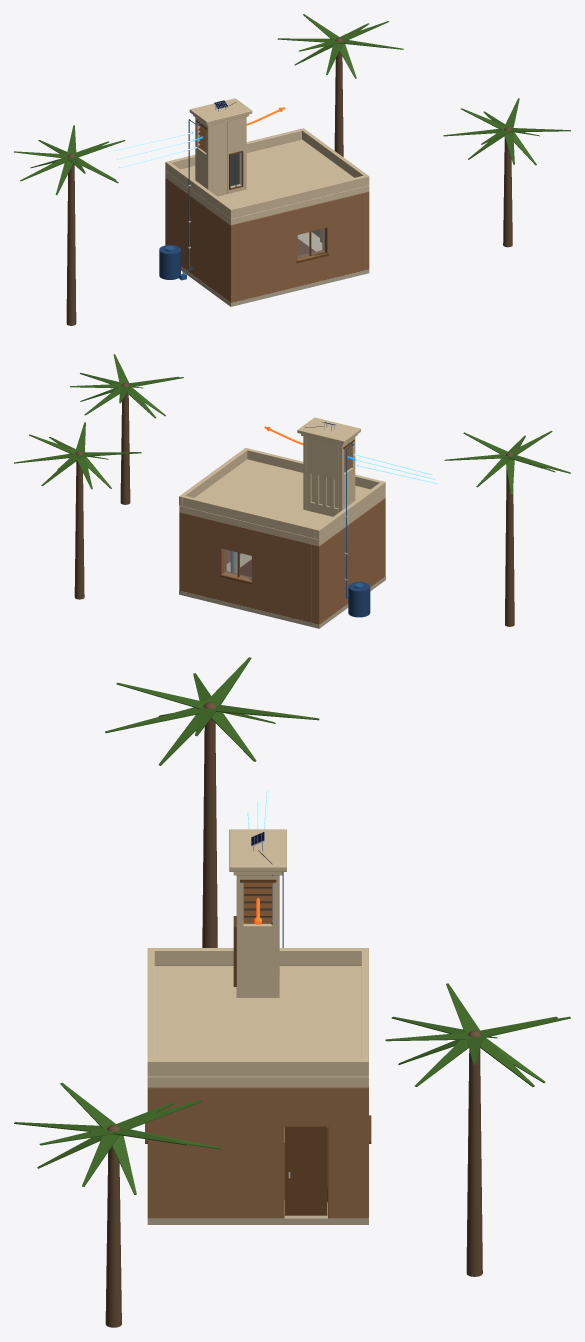
The model's file is EcoCatcher.glb.
3 renders of one model, top to bottom at view 1: azimuth 30°, elevation 25°; view 2: azimuth 150°, elevation 25°; view 3: azimuth 270°, elevation 25°, orthographic. The views are drawn at different scales.
Visible parts, largest first — view 1: Wall South (cutaway), Roof slab, Wall West, Parapet South (cutaway), Palm 1 trunk, Floor slab, Tower South wall, intake (cutaway), Tower cap, Tower West wall, Palm 2 trunk, Parapet North, Parapet West (+6 smaller); view 2: Wall North, Roof slab, Wall West, Tower North wall, Parapet North, Palm 1 trunk, Palm 0 trunk, Floor slab, Tower cap, Palm 2 trunk, Tower West wall, Parapet South (cutaway) (+5 smaller); view 3: Wall East, Roof slab, Parapet East, Tower East wall, Door, Palm 0 trunk, Palm 1 trunk, Parapet West, Palm 2 trunk, Tower cap, Floor slab, Parapet North (+1 smaller).
Part boxes in pixels (x1=…): Wall South (cutaway): x1=238, y1=193, x2=361, y2=300; Roof slab: x1=165, y1=139, x2=369, y2=225; Wall West: x1=165, y1=177, x2=238, y2=302; Parapet South (cutaway): x1=233, y1=175, x2=365, y2=217; Palm 1 trunk: x1=66, y1=164, x2=76, y2=325; Floor slab: x1=181, y1=232, x2=369, y2=306; Tower South wall, intake (cutaway): x1=212, y1=121, x2=227, y2=196; Tower cap: x1=189, y1=98, x2=252, y2=124; Tower West wall: x1=195, y1=117, x2=211, y2=192; Palm 2 trunk: x1=503, y1=137, x2=512, y2=247; Parapet North: x1=169, y1=129, x2=301, y2=169; Parapet West: x1=165, y1=161, x2=234, y2=218; Wall North: x1=186, y1=514, x2=311, y2=622; Roof slab: x1=179, y1=459, x2=385, y2=545; Wall West: x1=312, y1=498, x2=385, y2=624; Tower North wall: x1=307, y1=437, x2=338, y2=516; Parapet North: x1=183, y1=496, x2=317, y2=538; Palm 1 trunk: x1=505, y1=468, x2=514, y2=626; Palm 0 trunk: x1=74, y1=461, x2=84, y2=599; Floor slab: x1=179, y1=553, x2=385, y2=628; Tower cap: x1=297, y1=417, x2=360, y2=443; Palm 2 trunk: x1=120, y1=393, x2=130, y2=504; Tower West wall: x1=338, y1=437, x2=355, y2=512; Parapet South (cutaway): x1=247, y1=448, x2=381, y2=489; Wall East: x1=147, y1=1087, x2=368, y2=1218; Roof slab: x1=147, y1=966, x2=368, y2=1087; Parapet East: x1=147, y1=1058, x2=368, y2=1076; Tower East wall: x1=236, y1=875, x2=279, y2=997; Door: x1=285, y1=1126, x2=327, y2=1215; Palm 0 trunk: x1=466, y1=1049, x2=482, y2=1276; Palm 1 trunk: x1=202, y1=719, x2=217, y2=947; Parapet West: x1=147, y1=948, x2=368, y2=965; Palm 2 trunk: x1=105, y1=1146, x2=121, y2=1327; Tower cap: x1=229, y1=829, x2=286, y2=871; Floor slab: x1=147, y1=1127, x2=368, y2=1224; Parapet North: x1=361, y1=951, x2=368, y2=1058.
Size of what is drawn, in the model's own units: 20.93 by 6.9 by 11.58.
